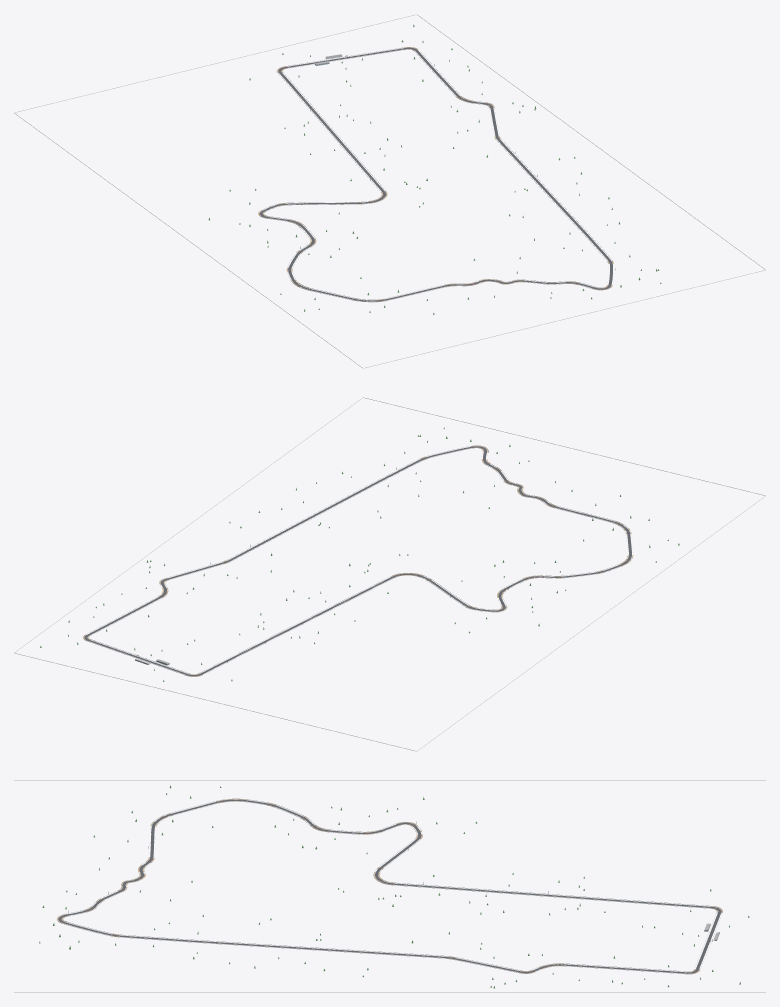
Rendered from bathurst.glb.
3 views of the same model, one above another, from view 1: azimuth 30°, elevation 25°; view 2: azimuth 150°, elevation 25°; view 3: azimuth 270°, elevation 25° (orthographic). The views are drawn at different scales.
Parts seen in each view (by area): view 1: bathurst.tarmac, bathurst.barrier, bathurst.gravel; view 2: bathurst.barrier, bathurst.tarmac; view 3: bathurst.barrier, bathurst.tarmac, bathurst.gravel, bathurst.foliage.
Part boxes in pixels (<box>): bathurst.tarmac: <box>259,47,612,301</box>; bathurst.barrier: <box>14,14,765,368</box>; bathurst.gravel: <box>258,47,613,302</box>; bathurst.barrier: <box>14,397,765,751</box>; bathurst.tarmac: <box>84,446,631,676</box>; bathurst.barrier: <box>14,780,765,992</box>; bathurst.tarmac: <box>58,799,721,973</box>; bathurst.gravel: <box>57,799,722,974</box>; bathurst.foliage: <box>39,785,749,988</box>.
Size of the model in its own units: 1633 by 12.5 by 2451.
